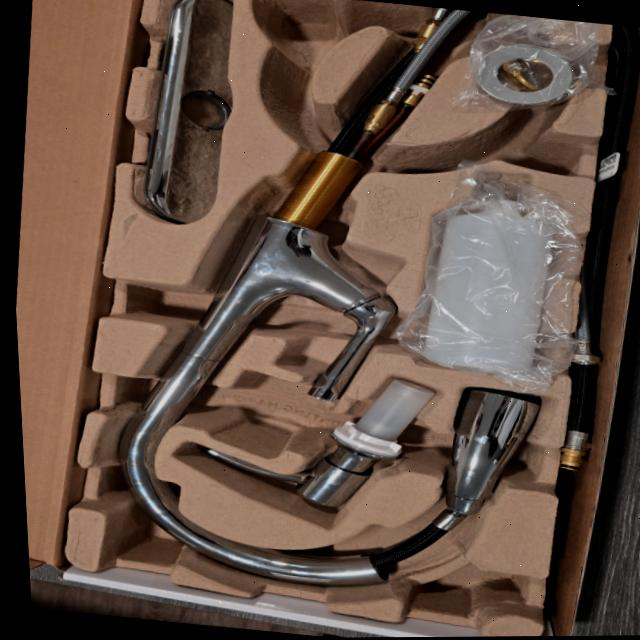1: (114, 8, 542, 583)
2: (205, 378, 435, 509)
3: (417, 181, 560, 375)
4: (144, 0, 233, 222)
5m: (262, 0, 338, 58)
6: (450, 13, 616, 112)
7m: (420, 116, 583, 179)
